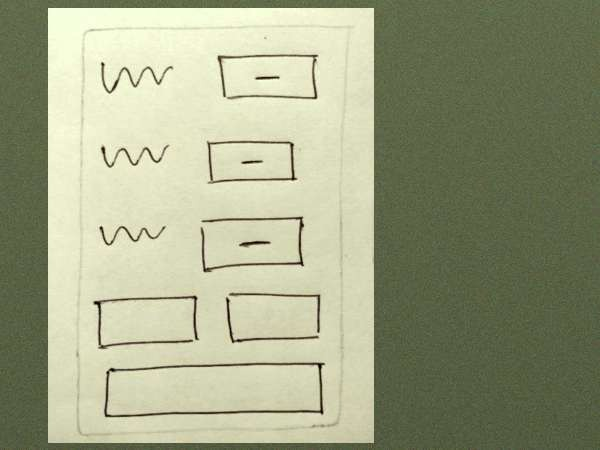button: (206, 44, 332, 110), (195, 212, 314, 275), (203, 134, 307, 189)
text: (93, 130, 176, 177), (97, 56, 180, 96), (94, 217, 173, 254)
text_input: (97, 359, 331, 422), (89, 293, 209, 356), (221, 287, 329, 351)
